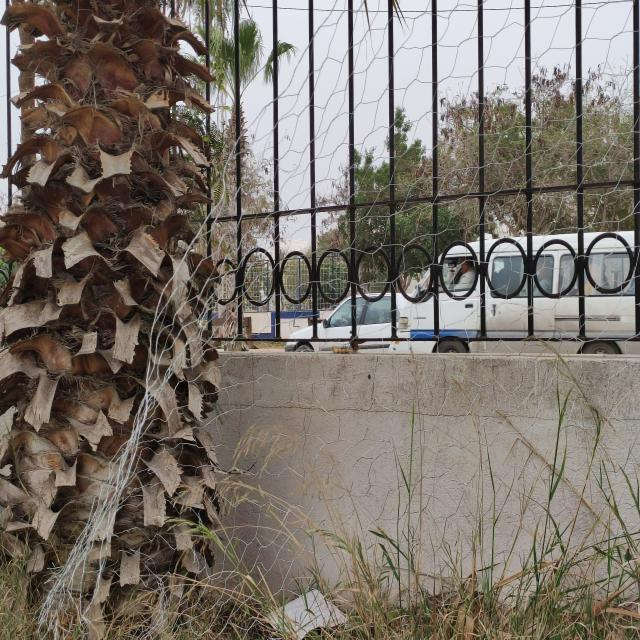fence line: (5, 27, 293, 603)
